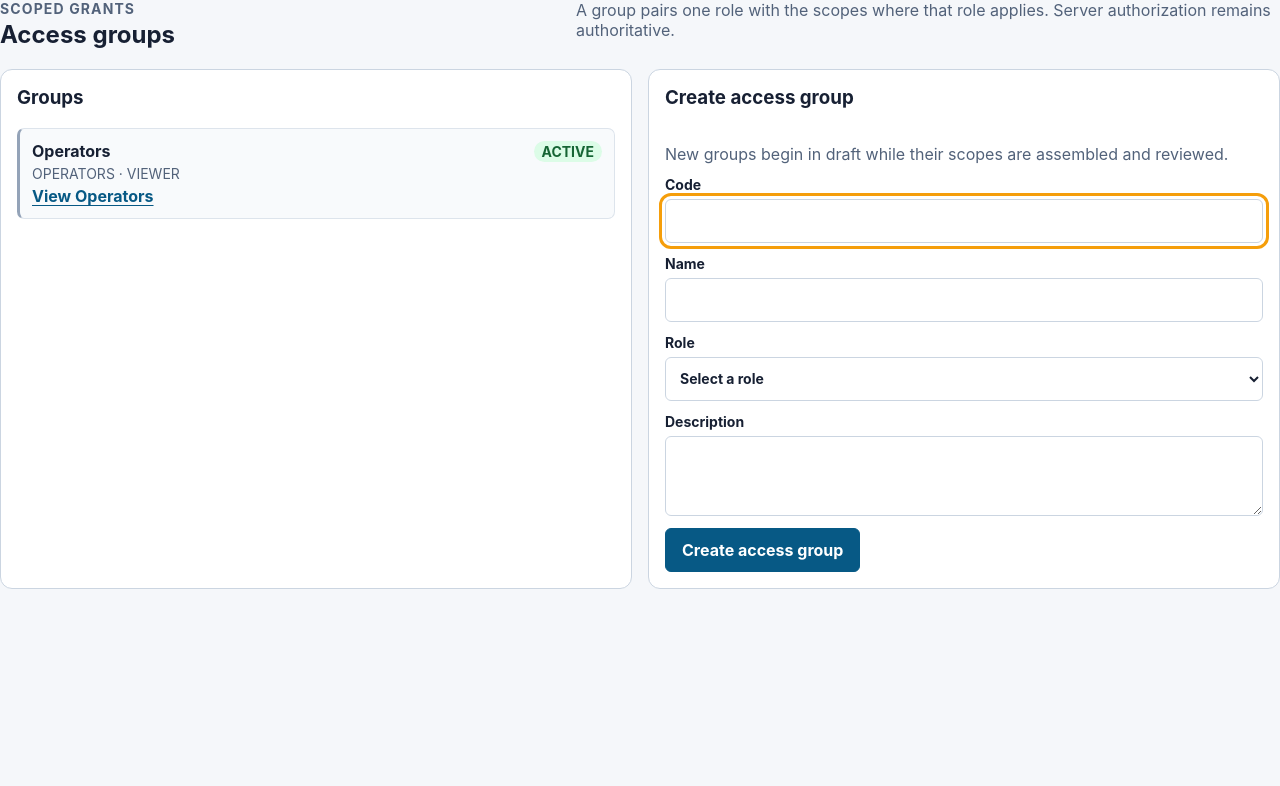
Test case: AccessGroupsPage › supports group edit, disable/activate, and scope mutations for group.manage users
What coordinates should you click on to do the following:
click the button "View Operators"
I would click on:
 (93, 196)
Its box is [32,186,154,206].
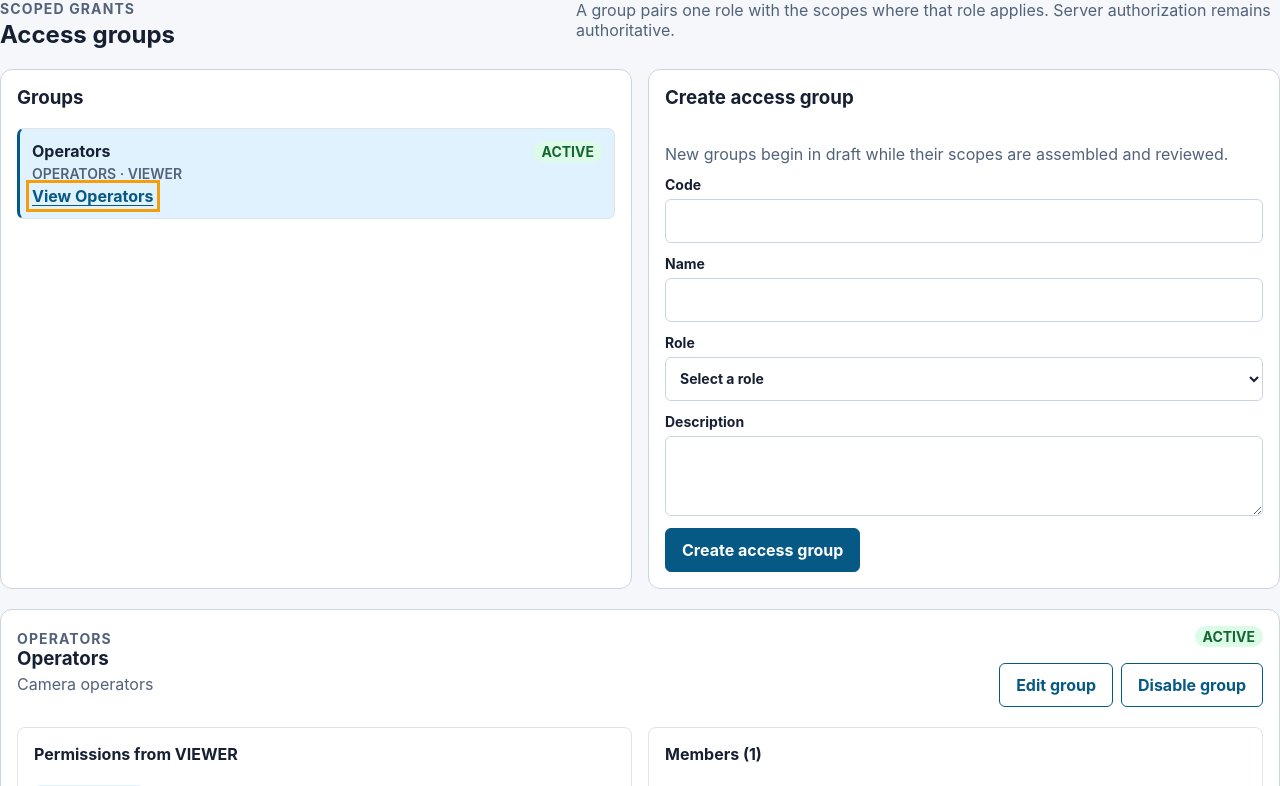
Expected: the button "Edit group" is shown, [999,663,1113,707]
Expected: the button "Disable group" is shown, [1121,663,1263,707]
